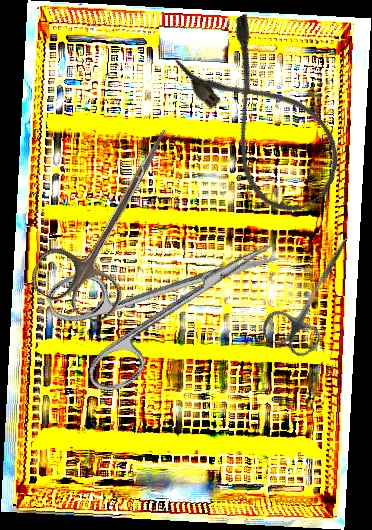Cannula: (169, 9, 358, 226)
Iris Scissors: (42, 199, 301, 401), (25, 106, 201, 329), (258, 221, 370, 362)
